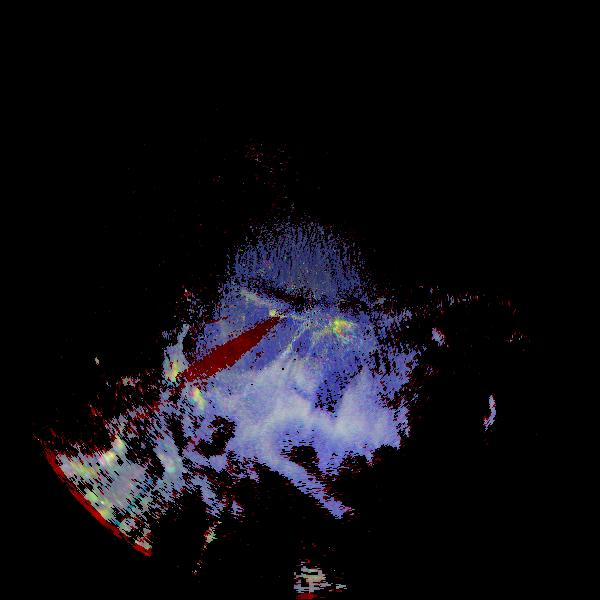roost: (152, 350, 191, 389)
